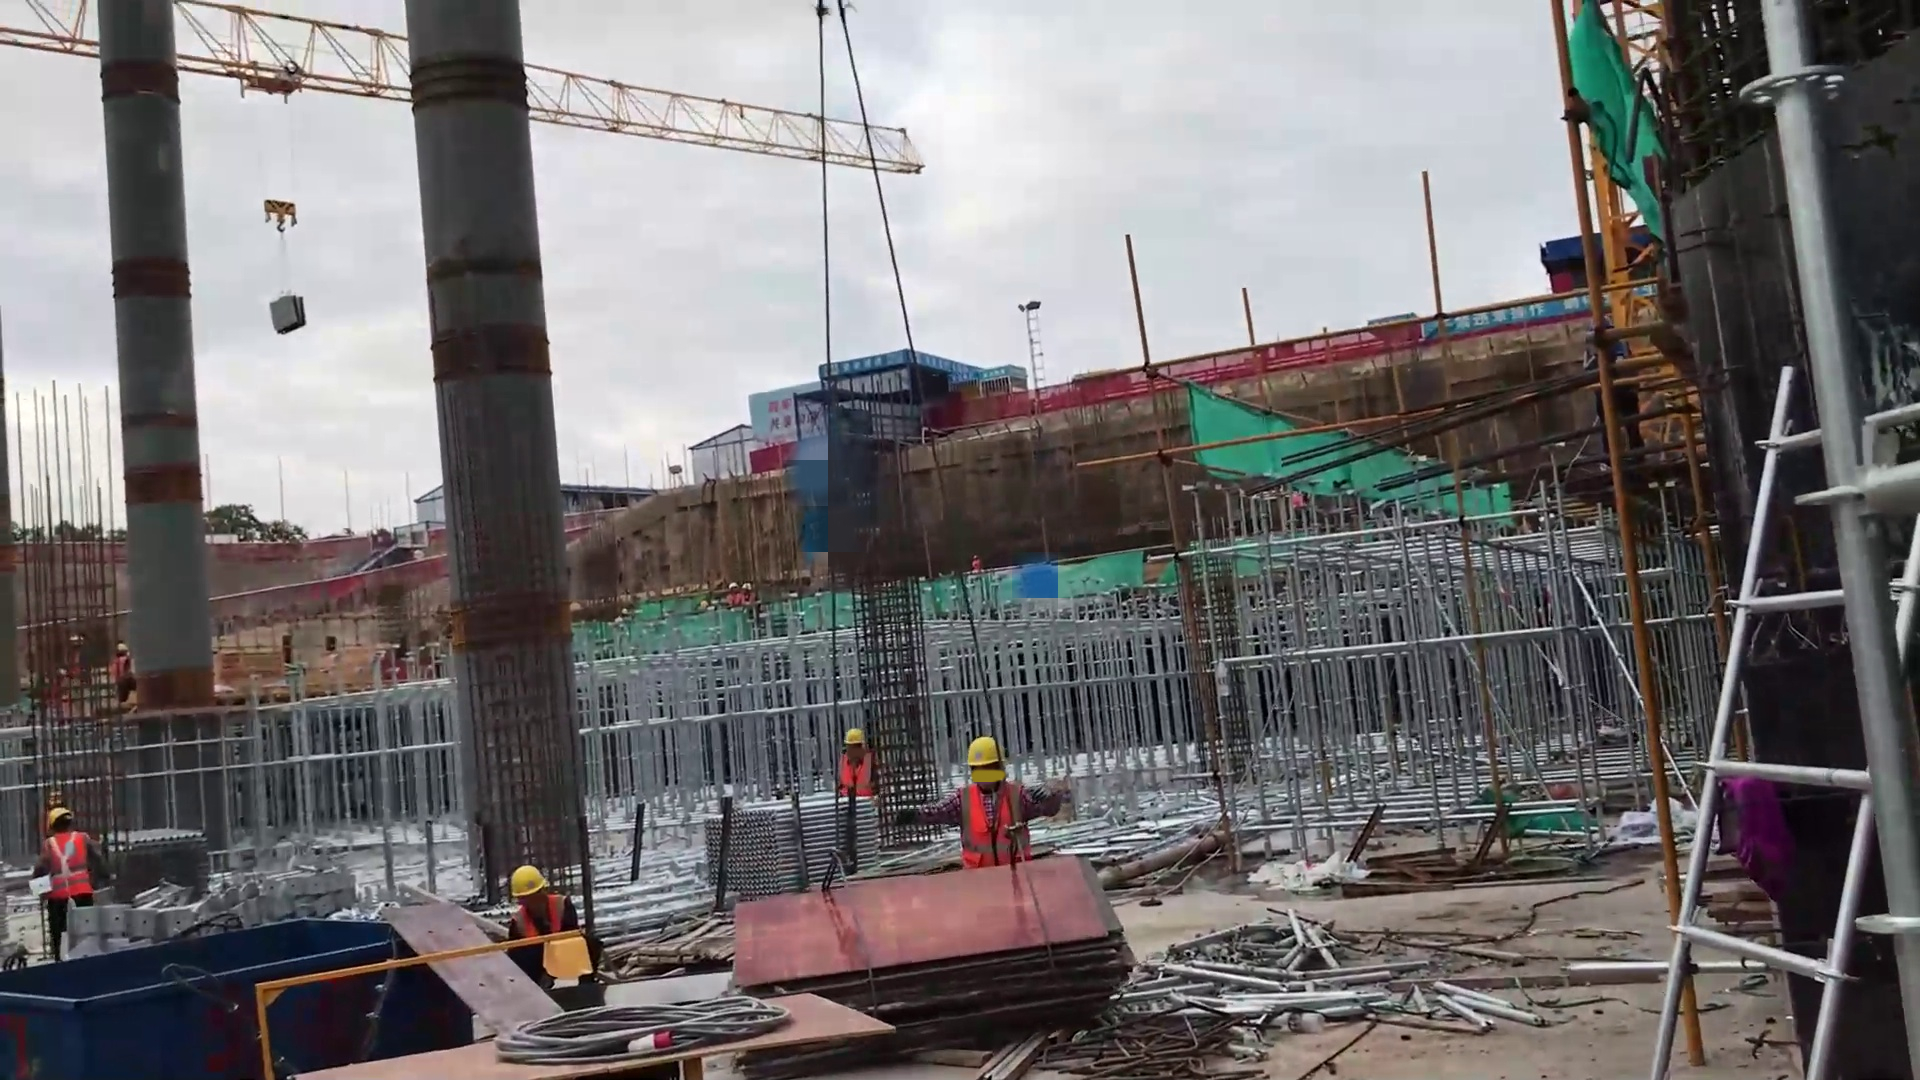board: (735, 867, 1129, 1029)
cutter: (259, 928, 879, 1080)
helmet: (963, 732, 1007, 771), (506, 862, 547, 897), (41, 804, 73, 831), (841, 728, 866, 749), (116, 641, 130, 655), (742, 582, 753, 591), (728, 582, 739, 589)
hook: (262, 198, 299, 234)
hopper: (1, 917, 486, 1079)
person: (888, 733, 1066, 869), (27, 805, 110, 959), (504, 859, 596, 942), (830, 725, 883, 802), (111, 641, 136, 703), (725, 580, 742, 608), (742, 581, 756, 605)
scaffold: (703, 793, 881, 904), (103, 824, 212, 898)
slogan: (1442, 286, 1591, 339), (821, 349, 1011, 380), (763, 394, 828, 440)
vest: (957, 780, 1030, 870), (38, 832, 95, 898), (506, 893, 568, 939), (833, 748, 875, 799), (112, 655, 131, 684), (723, 590, 745, 608), (971, 558, 982, 572)
